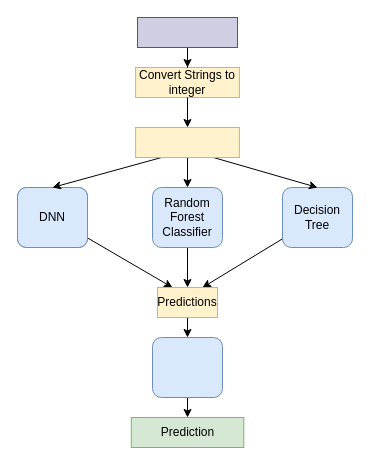
This 370x465 diagram has some shape labels left out. The shapes that lost their labels are listed below. From the top down, each one's centre as x and y in pixels, then its label:
At (187,32): "New Instance Input Data".
At (187,142): "Scale features between 0 and 1".
At (187,367): "Soft Voting Classifier".
